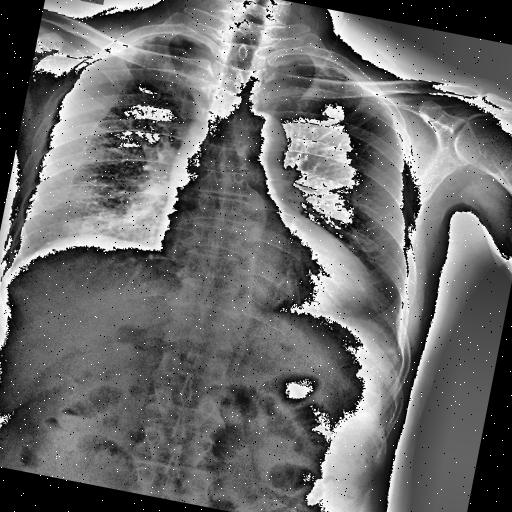0- Aortic enlargement: (212, 98, 299, 170), (222, 104, 294, 168), (227, 112, 293, 168)
11- Pleural thickening: (271, 44, 370, 84), (128, 25, 214, 62), (276, 48, 350, 82), (132, 24, 201, 51)
3- Cardiomegaly: (149, 214, 387, 326), (150, 206, 378, 318), (147, 226, 378, 326)
